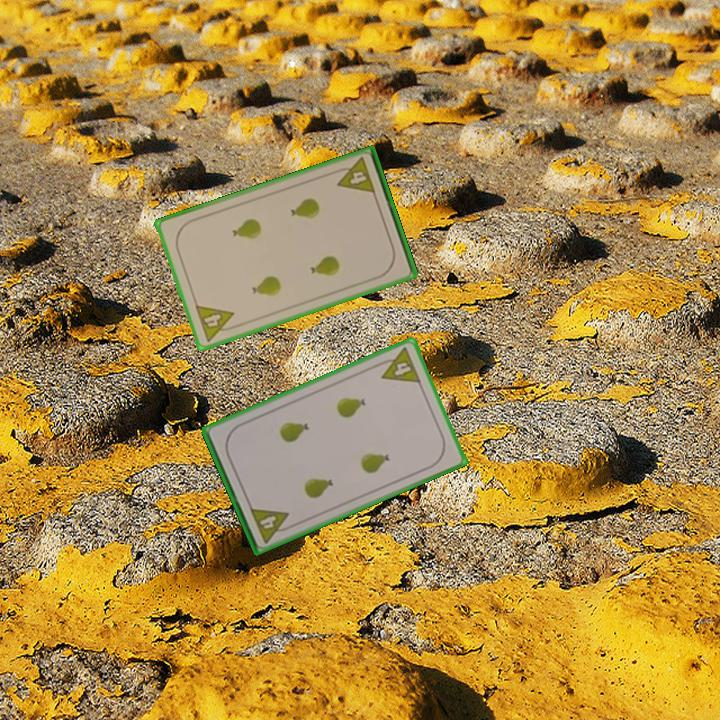4p: (191, 301, 241, 344), (373, 344, 424, 386), (246, 504, 296, 546), (330, 154, 378, 197)
